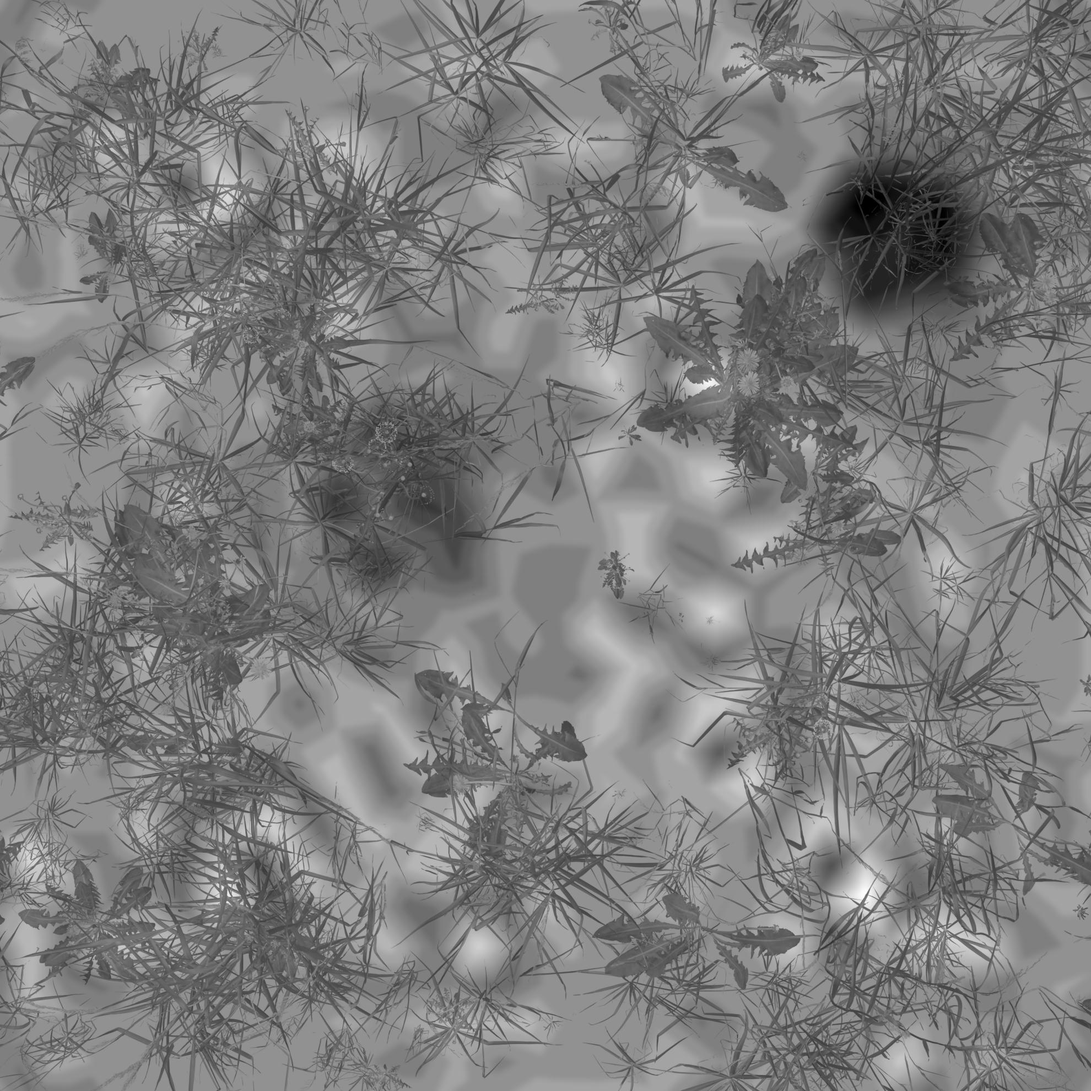landmine: (333, 433, 491, 580), (818, 153, 971, 300)
